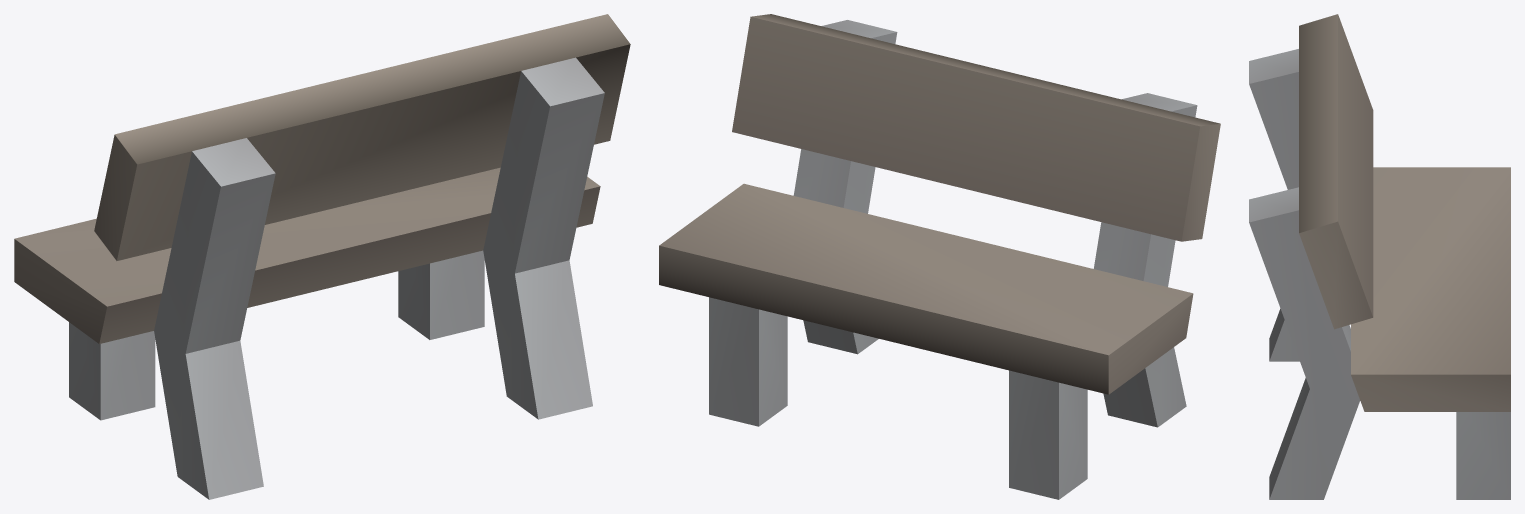
File: detail-bench.glb
3 renders of one model, left to right at view 1: azimuth 30°, elevation 25°; view 2: azimuth 150°, elevation 25°; view 3: azimuth 270°, elevation 25°, orthographic. The views are drawn at different scales.
Visible parts, largest first — view 1: detail-bench; view 2: detail-bench; view 3: detail-bench.
Part boxes in pixels (x1=…): detail-bench: x1=14, y1=14, x2=630, y2=499; detail-bench: x1=659, y1=14, x2=1220, y2=499; detail-bench: x1=1249, y1=14, x2=1510, y2=499.
Bounding box in the file's own units: 0.6039 × 0.4091 × 0.3221.
